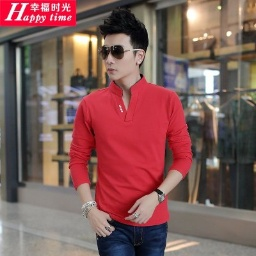face: (100, 10, 149, 82)
